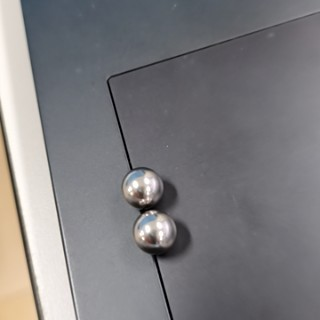ironball: (121, 204, 191, 263), (110, 153, 176, 211)
